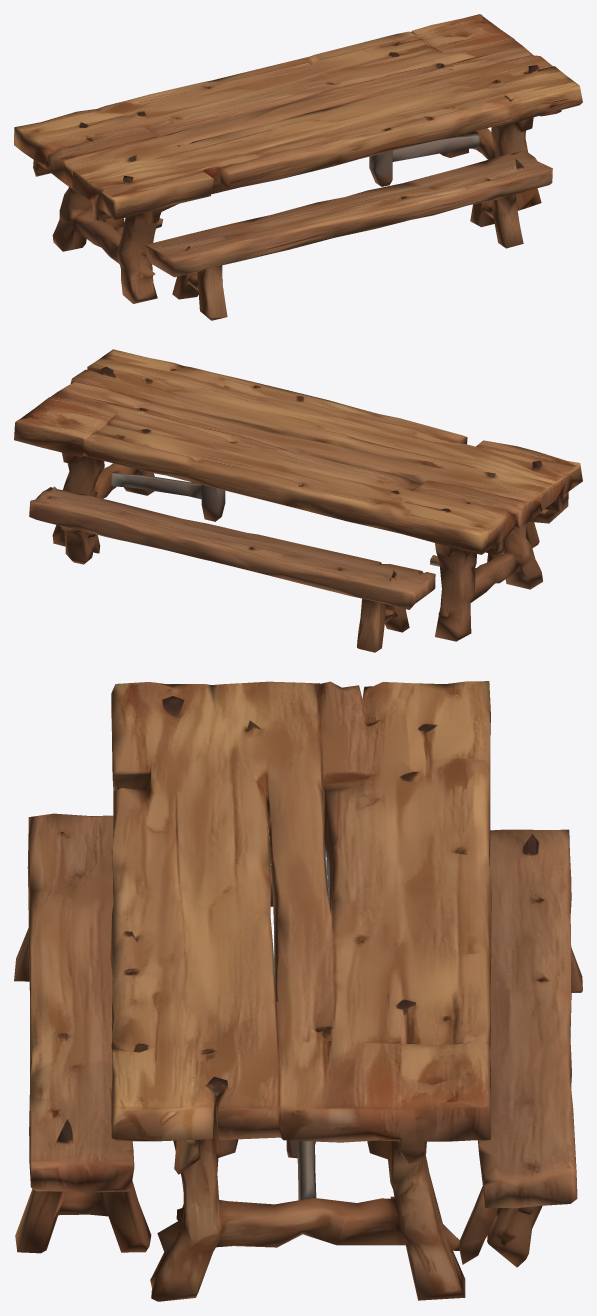
Rendered from long_table.glb.
3 views of the same model, one above another, from view 1: azimuth 30°, elevation 25°; view 2: azimuth 150°, elevation 25°; view 3: azimuth 270°, elevation 25° (orthographic). The views are drawn at different scales.
Parts seen in each view (by area): view 1: tripo_node_b8df00b9-0a97-45a9-b858-660609d4c182; view 2: tripo_node_b8df00b9-0a97-45a9-b858-660609d4c182; view 3: tripo_node_b8df00b9-0a97-45a9-b858-660609d4c182.
Boxes of the visible parts, <box> form: tripo_node_b8df00b9-0a97-45a9-b858-660609d4c182: <box>14,14,582,320</box>; tripo_node_b8df00b9-0a97-45a9-b858-660609d4c182: <box>14,349,582,652</box>; tripo_node_b8df00b9-0a97-45a9-b858-660609d4c182: <box>14,681,582,1301</box>.
Bounding box in the file's own units: 1 × 0.2503 × 0.5612.
1 material, 1 textured.
